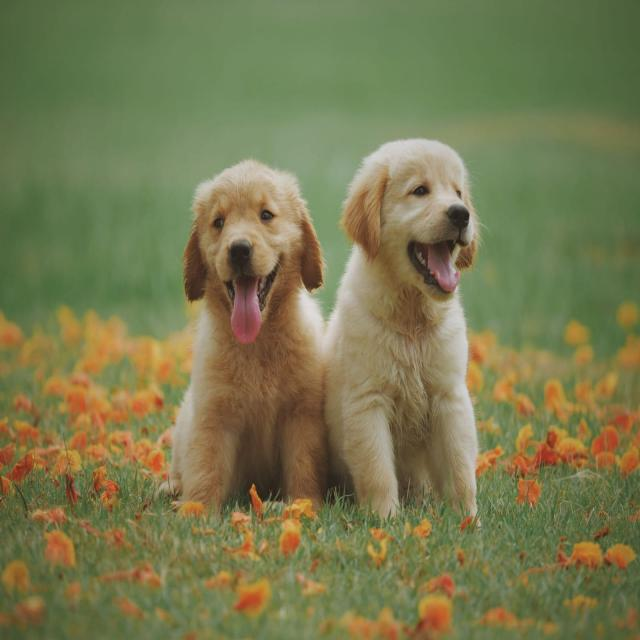Animals: (327, 105, 496, 408), (172, 136, 332, 418)
